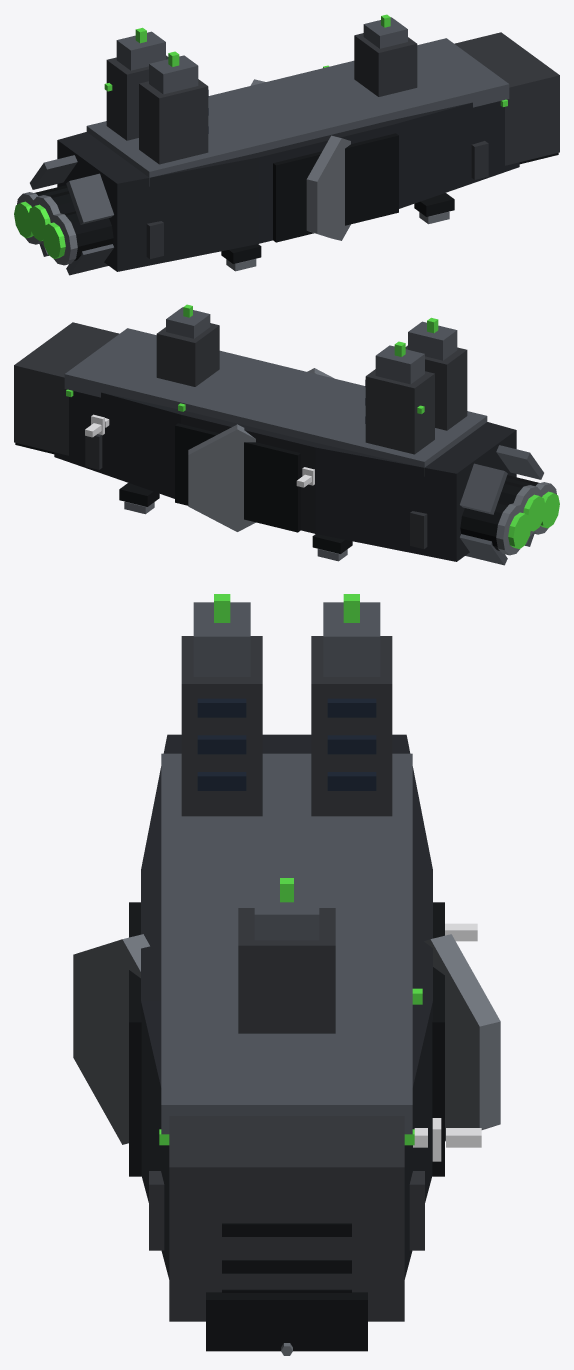
Rendered from FC_Mothership.obj.
3 views of the same model, one above another, from view 1: azimuth 30°, elevation 25°; view 2: azimuth 150°, elevation 25°; view 3: azimuth 270°, elevation 25° (orthographic). The views are drawn at different scales.
Parts seen in each view (by area): view 1: FC_Mothership; view 2: FC_Mothership; view 3: FC_Mothership.
Part boxes in pixels (x1,y1,x2,y2): FC_Mothership: [14, 14, 559, 275]; FC_Mothership: [14, 304, 559, 565]; FC_Mothership: [73, 594, 500, 1355].
Size of the model in its own units: 2.64 by 1.11 by 0.9701.
